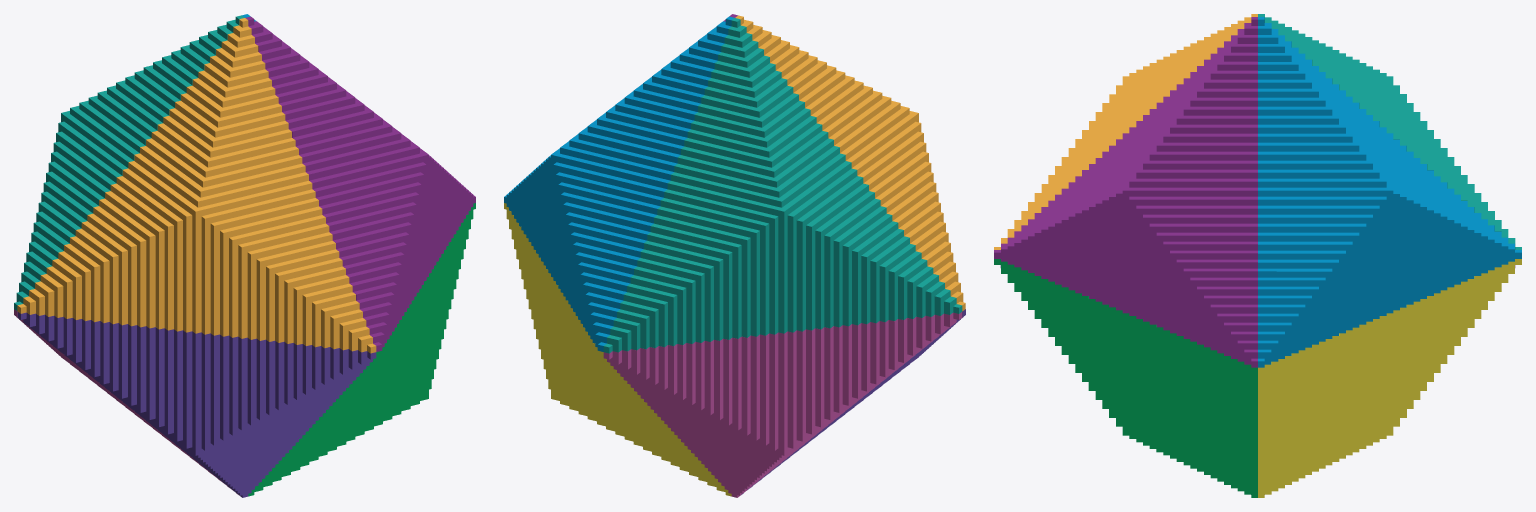
3 views of the same model, side by side, from view 1: azimuth 30°, elevation 25°; view 2: azimuth 150°, elevation 25°; view 3: azimuth 270°, elevation 25° (orthographic).
Parts seen in each view (by area): view 1: C6-Local, C2-Local, C7-Local, C5-Local, C3-Local, C1-Local; view 2: C5-Local, C1-Local, C8-Local, C6-Local, C4-Local, C2-Local; view 3: C7-Local, C8-Local, C3-Local, C4-Local, C5-Local, C6-Local.
Boxes of the visible parts, x1,y1,x2,y2 form: C6-Local: (17,18,376,353); C2-Local: (17,312,376,497); C7-Local: (245,16,475,351); C5-Local: (14,15,244,310); C3-Local: (248,203,475,496); C1-Local: (14,309,238,494); C5-Local: (603,18,962,353); C1-Local: (603,312,962,497); C8-Local: (504,16,734,351); C6-Local: (735,15,965,311); C4-Local: (504,203,731,496); C2-Local: (741,309,965,494); C7-Local: (994,17,1257,367); C8-Local: (1258,17,1521,367); C3-Local: (994,259,1257,497); C4-Local: (1258,259,1521,497); C5-Local: (1258,14,1521,249); C6-Local: (994,14,1257,249).
Size of the model in its own units: 78 by 78 by 78.03.
Materials: 9 (9 with a texture image).
